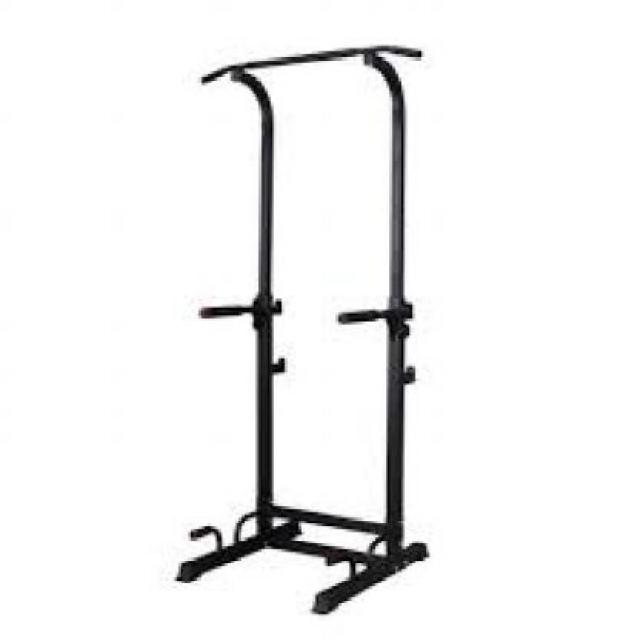chinning dipping: (176, 43, 430, 617)
